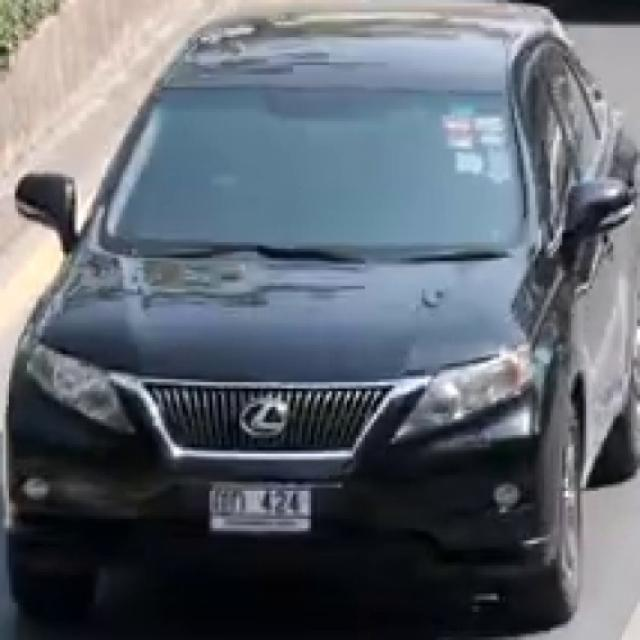plate: (206, 479, 314, 536)
